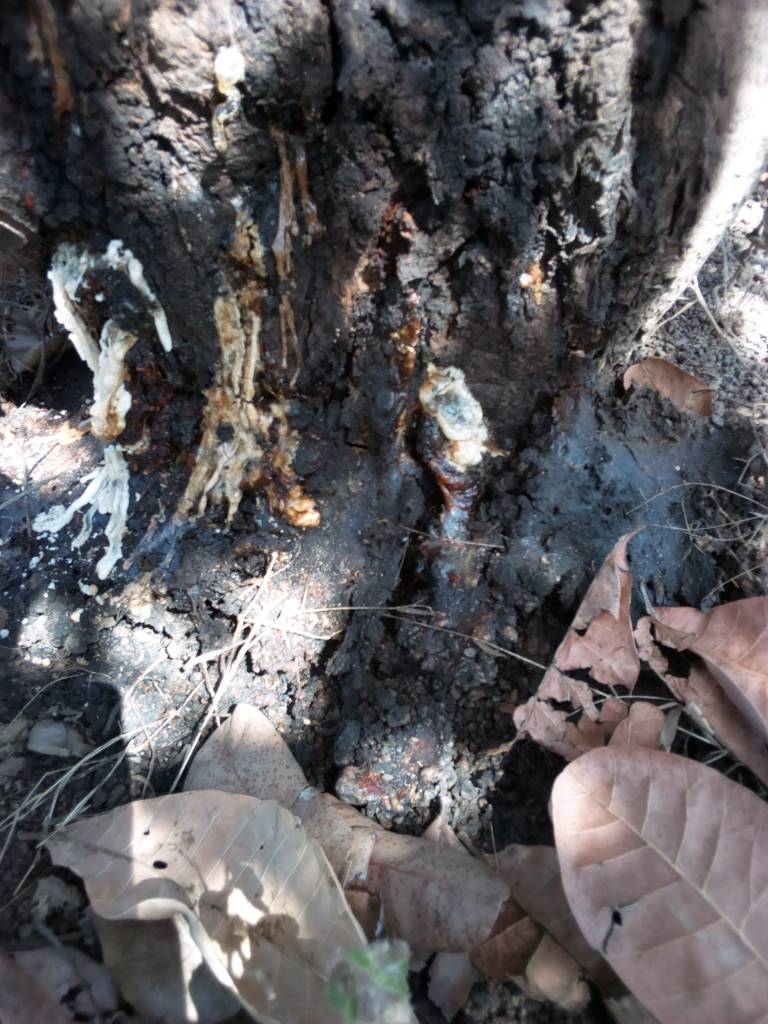Gommose: (371, 13, 621, 447), (197, 113, 325, 536)
